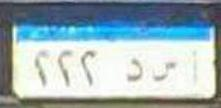2: (54, 45, 76, 88), (79, 47, 101, 89), (32, 44, 52, 89)
alif: (187, 48, 203, 86)
daal: (124, 56, 145, 85)
seen: (150, 57, 178, 85)
